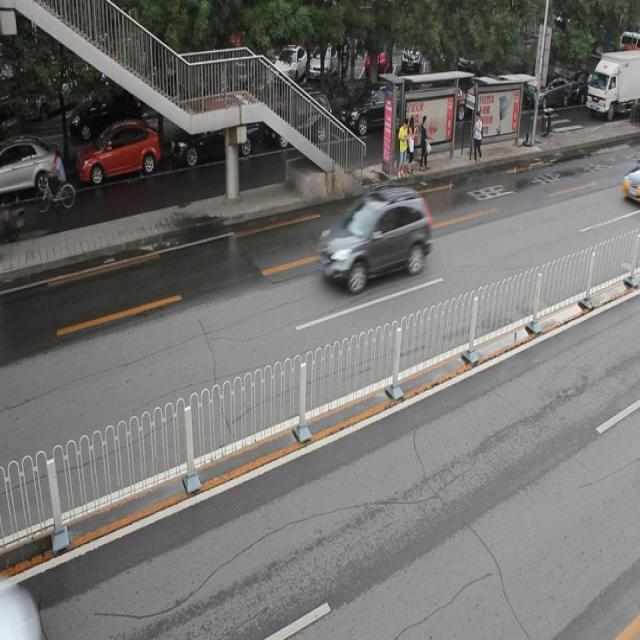bus: (585, 49, 640, 119)
car: (317, 189, 430, 292), (77, 122, 160, 186), (170, 107, 258, 167), (266, 88, 332, 149), (340, 80, 410, 137), (1, 137, 62, 200)
